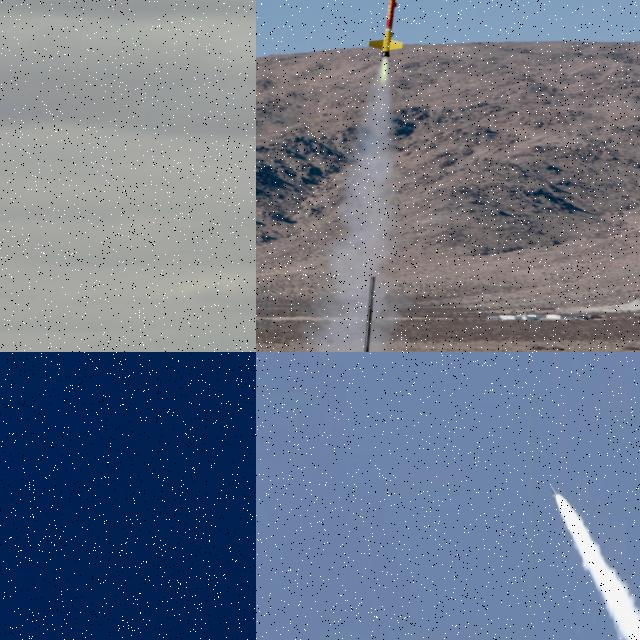Rocket: (367, 0, 404, 58), (550, 484, 558, 498)
